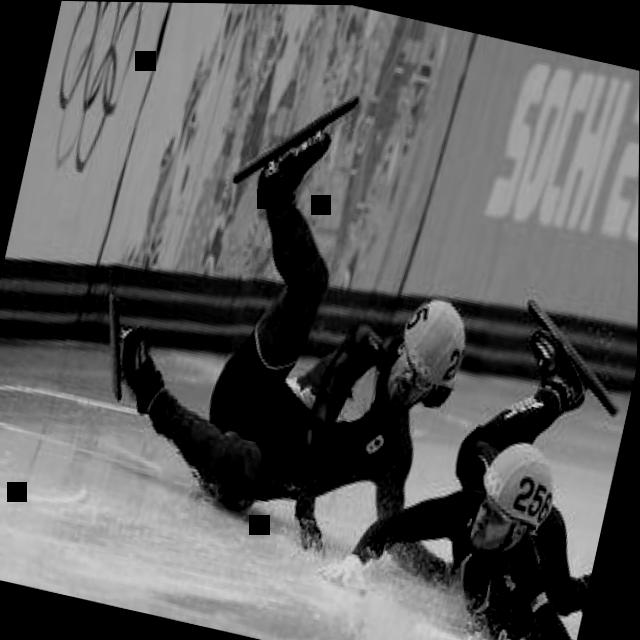Fall-Detected: (49, 37, 537, 599)
